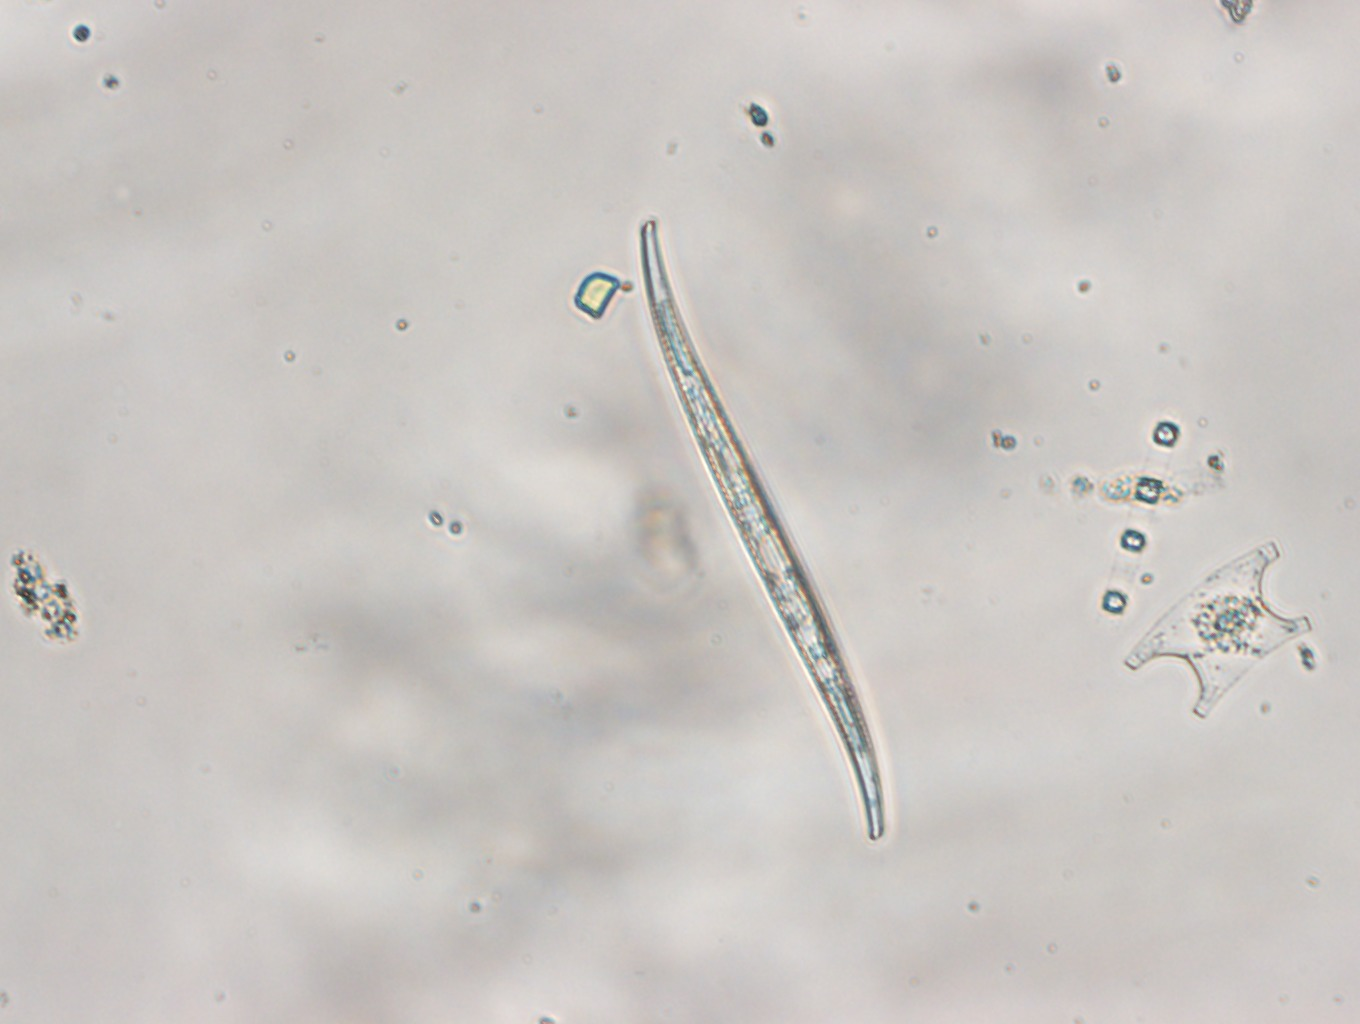eucampia: (1120, 539, 1312, 719)
pleurosigma pelagicum: (638, 214, 885, 843)
skeletonema: (1096, 415, 1182, 622)
